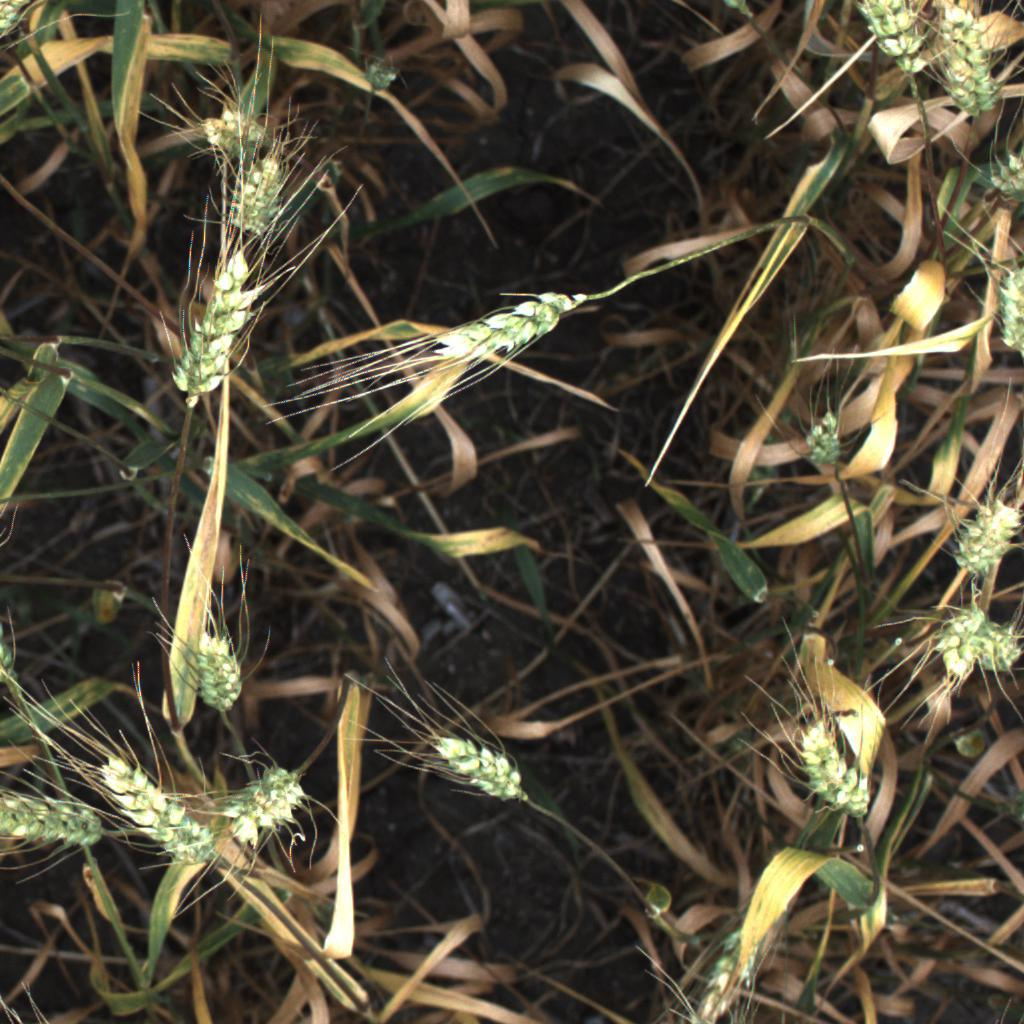0-0: (407, 269, 603, 378), (87, 754, 227, 876), (162, 232, 260, 406), (783, 708, 881, 824), (417, 724, 538, 813), (205, 128, 303, 235), (207, 758, 315, 854), (927, 600, 1024, 703), (933, 4, 1011, 124), (0, 778, 106, 857), (936, 488, 1022, 578), (850, 0, 941, 85), (180, 609, 251, 713), (190, 87, 277, 157), (978, 252, 1024, 367), (793, 404, 857, 476), (970, 145, 1024, 206), (0, 0, 40, 49)
